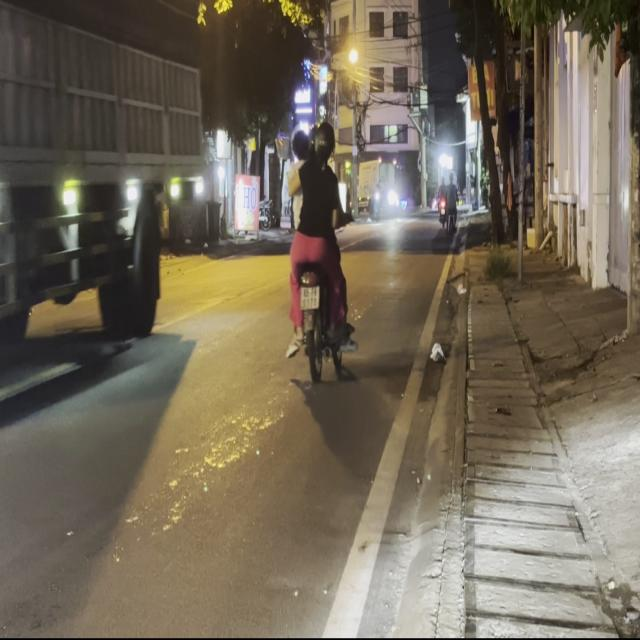helmet: (310, 118, 335, 164)
licenseplate: (282, 115, 355, 383)
motorcyclist: (290, 123, 311, 161)
nohelmet: (300, 286, 318, 308)
